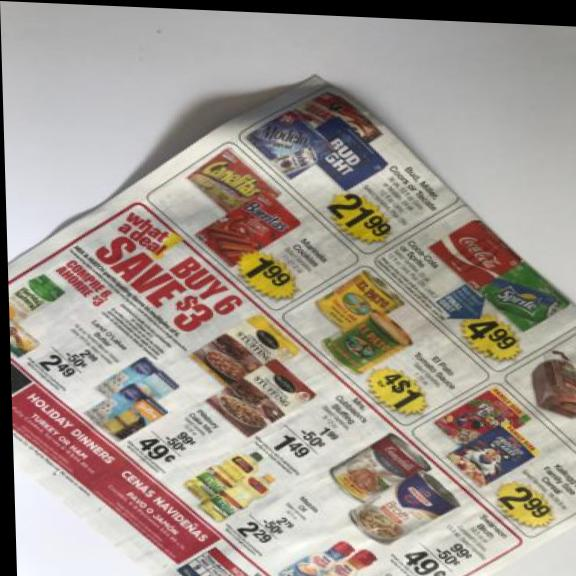Kertas: (2, 55, 576, 576)
